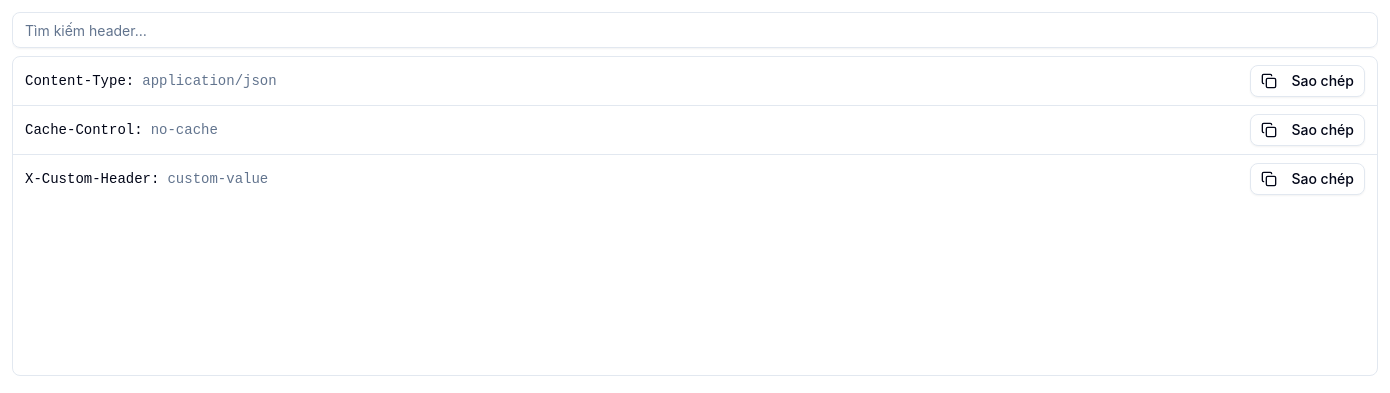
it: HeaderList › shows a "no results" message when the search matches nothing
Type "does-not-exist" into the field with placeholder "Tìm kiếm header…" at (695, 30), box top-left (12, 12), bottom-right (1378, 48)
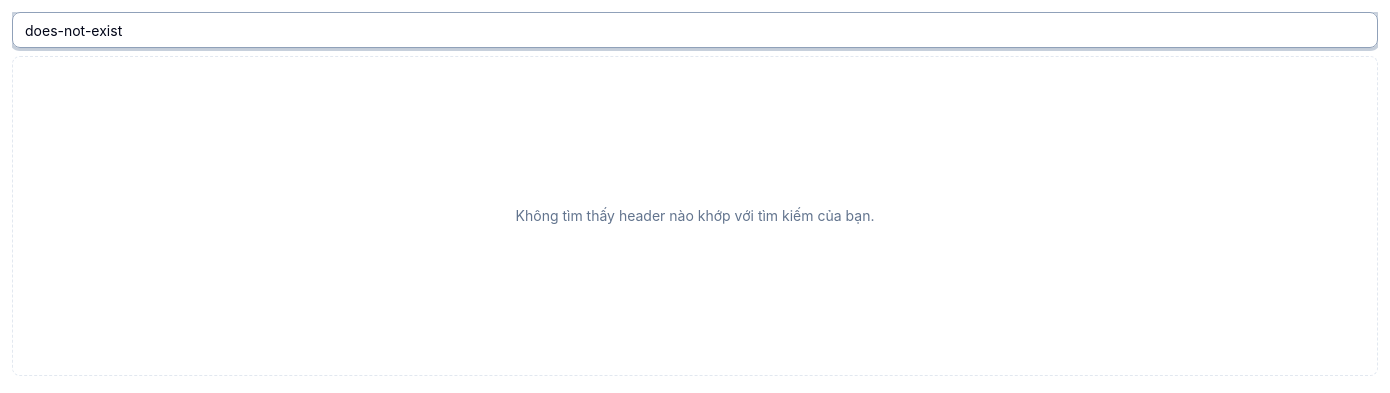
Expected: the text "Không tìm thấy header nào khớp với tìm kiếm của bạn." is shown, top-left (516, 206), bottom-right (874, 226)
